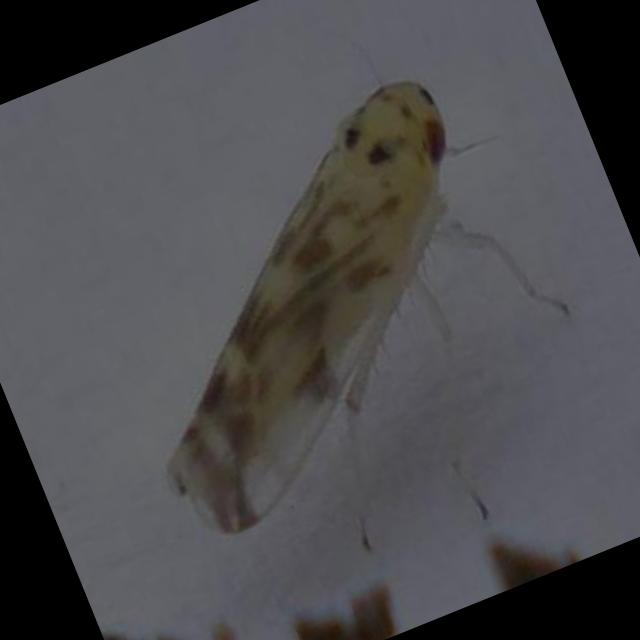green-leafhopper: (165, 72, 565, 549)
